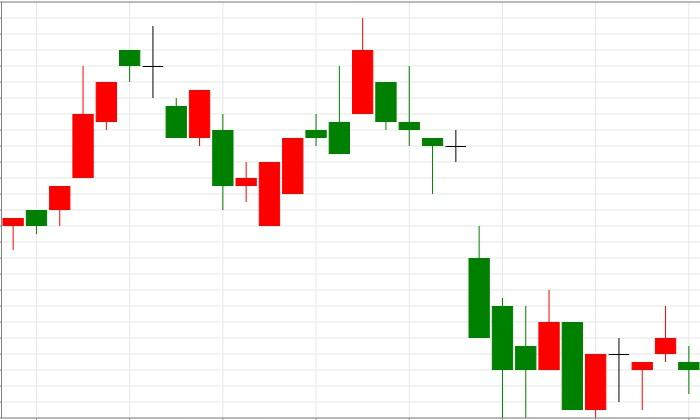shooting_star_fall: (259, 65, 350, 227)
